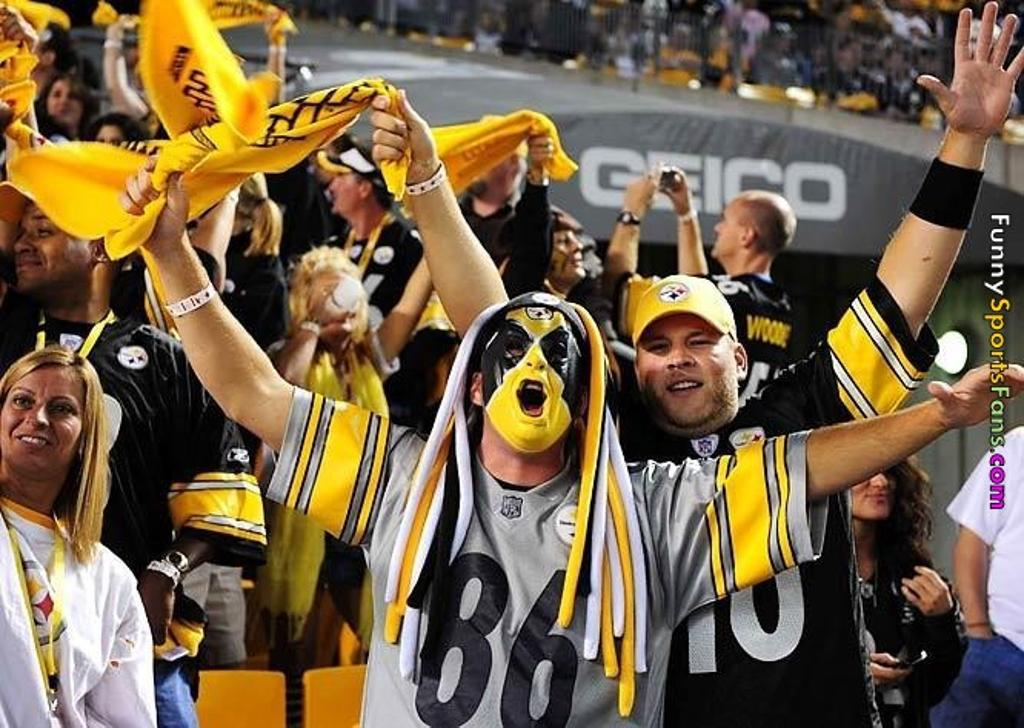face: (484, 326, 577, 452), (638, 311, 737, 429), (6, 372, 80, 473), (15, 205, 91, 288), (850, 458, 898, 519), (464, 132, 511, 194), (543, 226, 585, 281), (712, 200, 743, 259), (330, 170, 358, 214), (50, 85, 80, 122), (95, 131, 128, 163), (581, 248, 602, 283)
